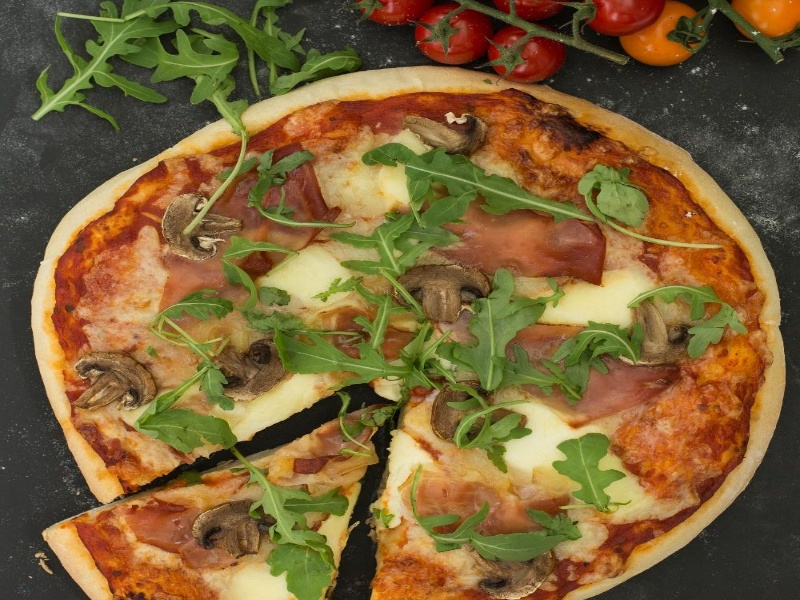champignon: (389, 260, 498, 328), (70, 350, 160, 419), (162, 190, 249, 260), (190, 496, 281, 562), (200, 338, 288, 406), (623, 292, 694, 370), (398, 111, 497, 161)
